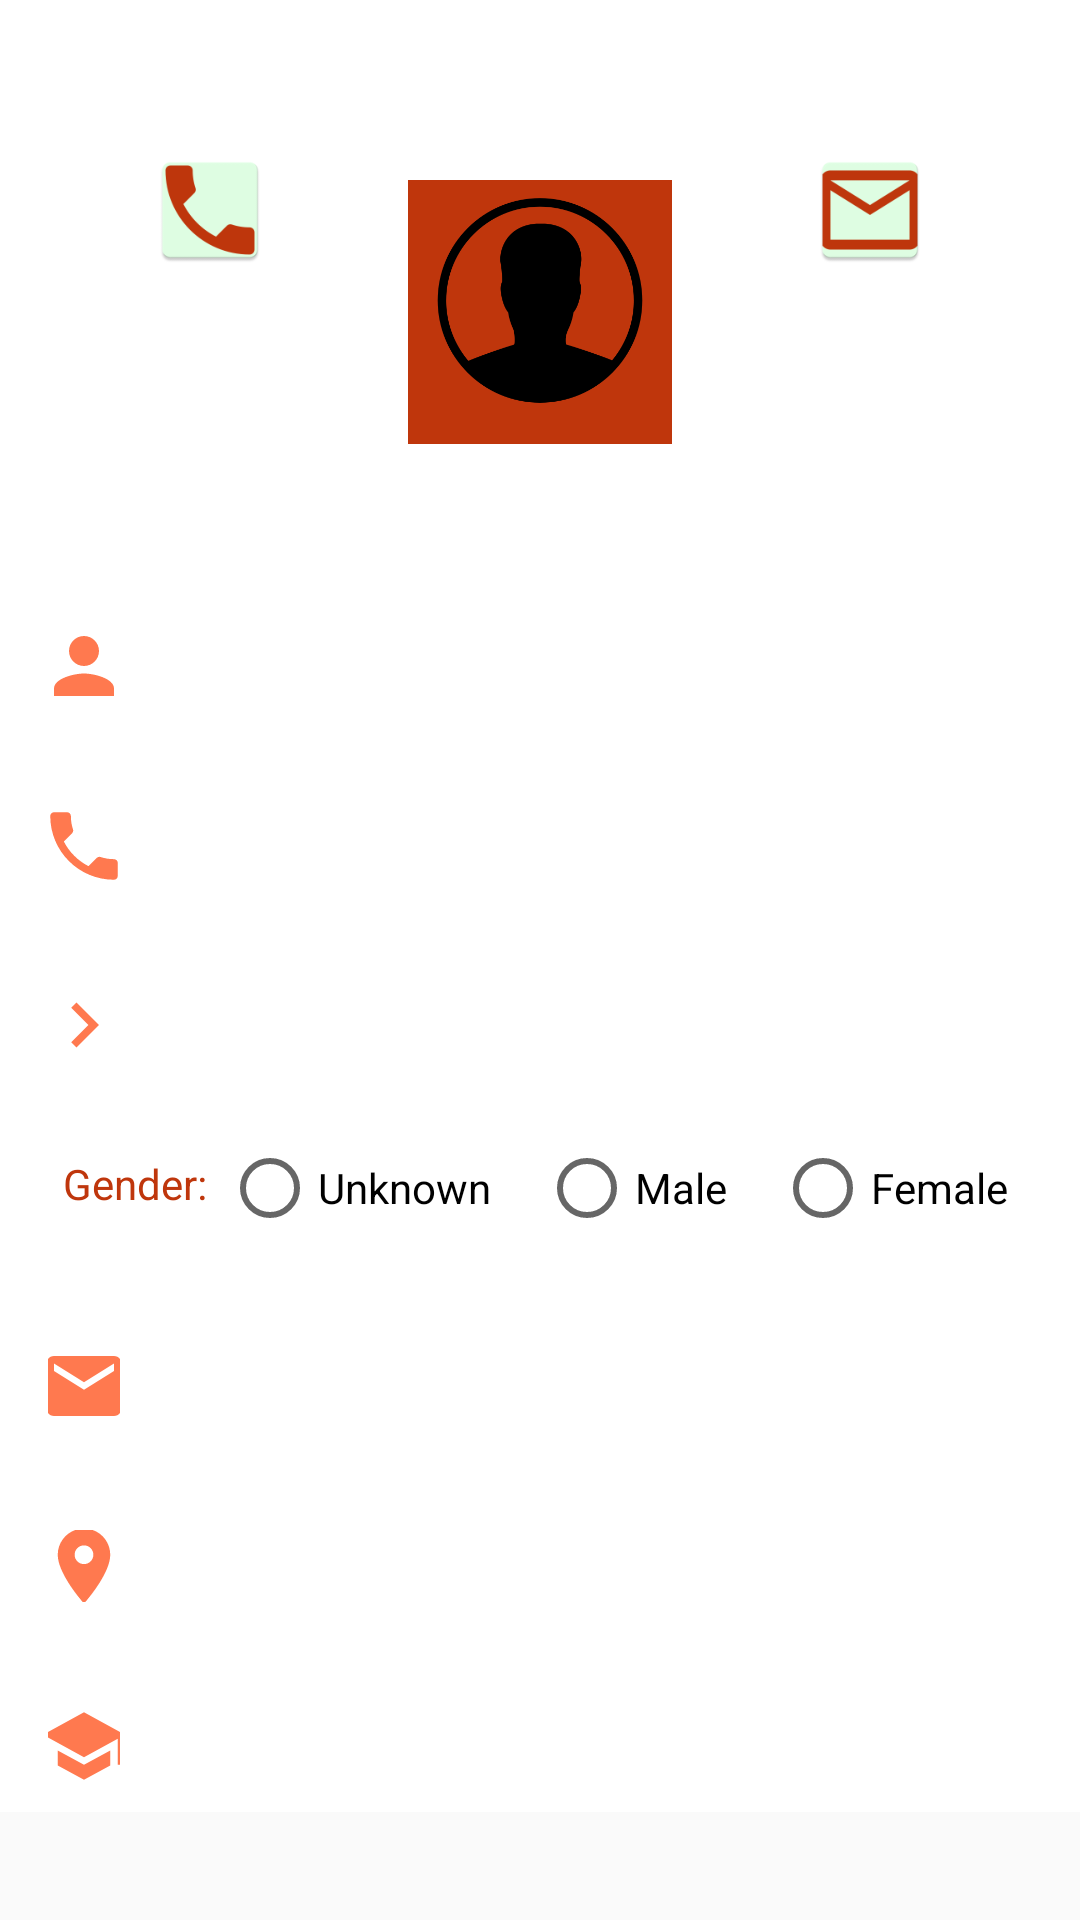

Point at icon controls on the screen. Image size 1080*1920, points as [x,y].
call: [210,212]
city: [84,1566]
college: [84,1746]
email: [870,212], [84,1386]
phone: [84,846]
